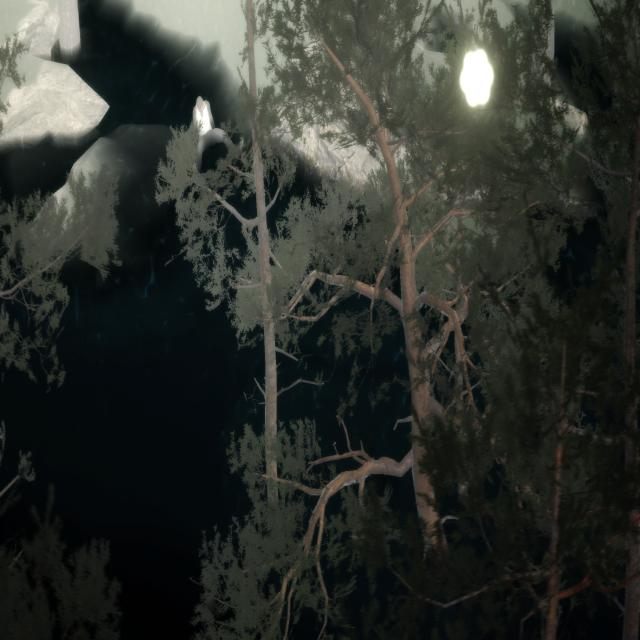Human: (187, 94, 246, 174)
